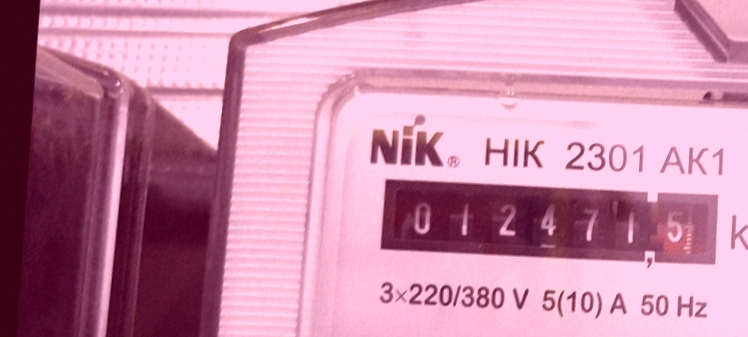0: (408, 198, 434, 235)
1: (457, 200, 471, 237), (623, 207, 636, 244)
2: (496, 200, 519, 238)
4: (537, 200, 559, 238)
5: (662, 205, 686, 244)
7: (576, 204, 600, 244)
screen: (368, 160, 732, 282)
